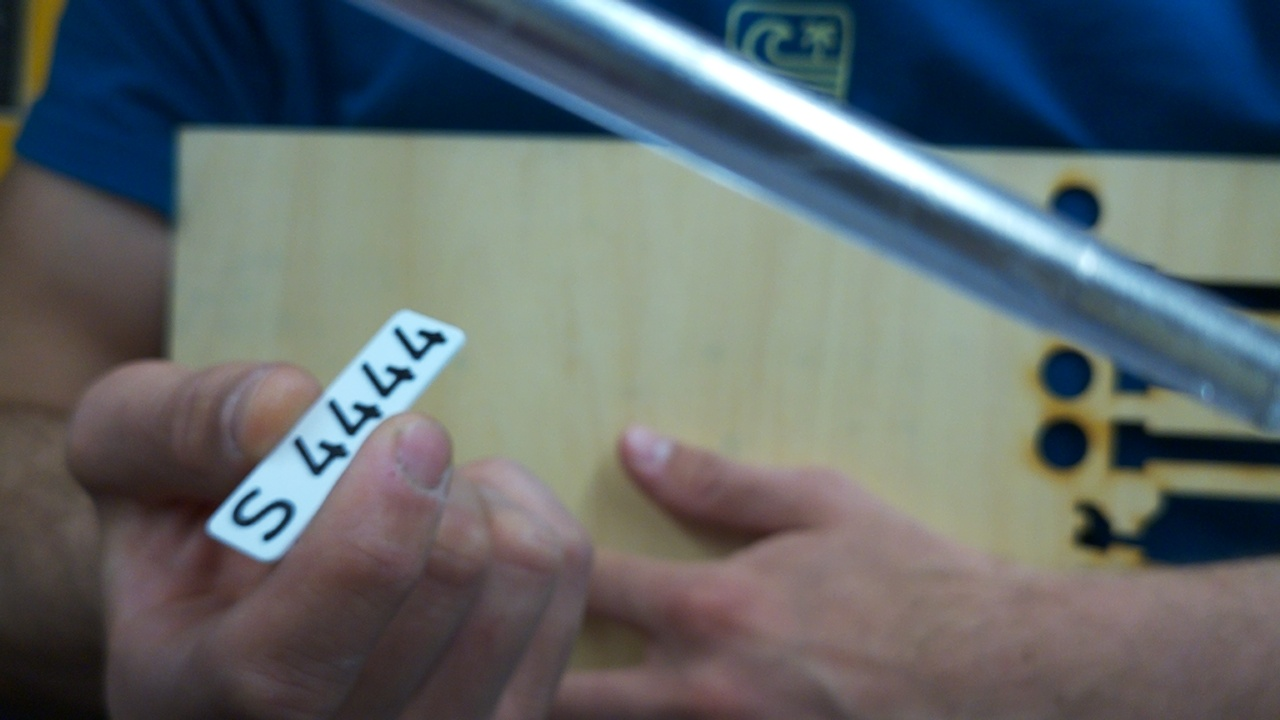license_plate: (201, 305, 470, 564)
